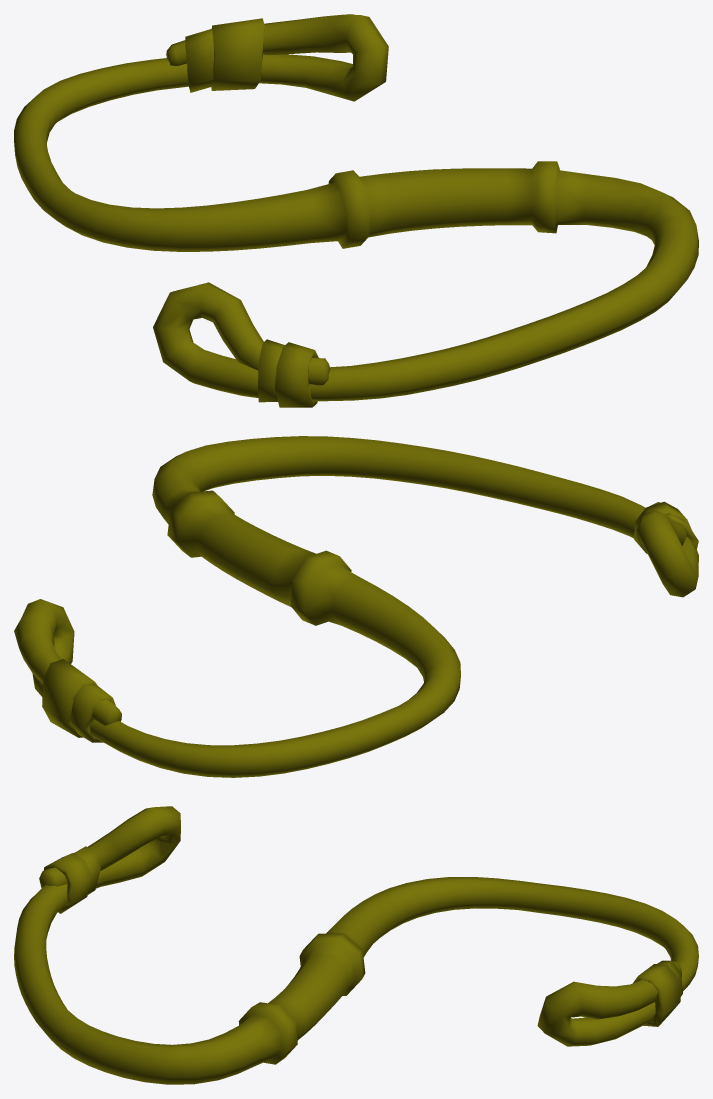
3 renders of one model, top to bottom at view 1: azimuth 30°, elevation 25°; view 2: azimuth 150°, elevation 25°; view 3: azimuth 270°, elevation 25°, orthographic. The views are drawn at different scales.
Visible parts, largest first — view 1: SM_Bookshelves_Scholar_Peak_Book_01_LOD0; view 2: SM_Bookshelves_Scholar_Peak_Book_01_LOD0; view 3: SM_Bookshelves_Scholar_Peak_Book_01_LOD0.
Boxes of the visible parts, x1=… form: SM_Bookshelves_Scholar_Peak_Book_01_LOD0: x1=14, y1=14, x2=698, y2=407; SM_Bookshelves_Scholar_Peak_Book_01_LOD0: x1=14, y1=436, x2=698, y2=777; SM_Bookshelves_Scholar_Peak_Book_01_LOD0: x1=14, y1=806, x2=698, y2=1084.
Bounding box in the file's own units: 0.6679 × 0.1135 × 0.8521.
